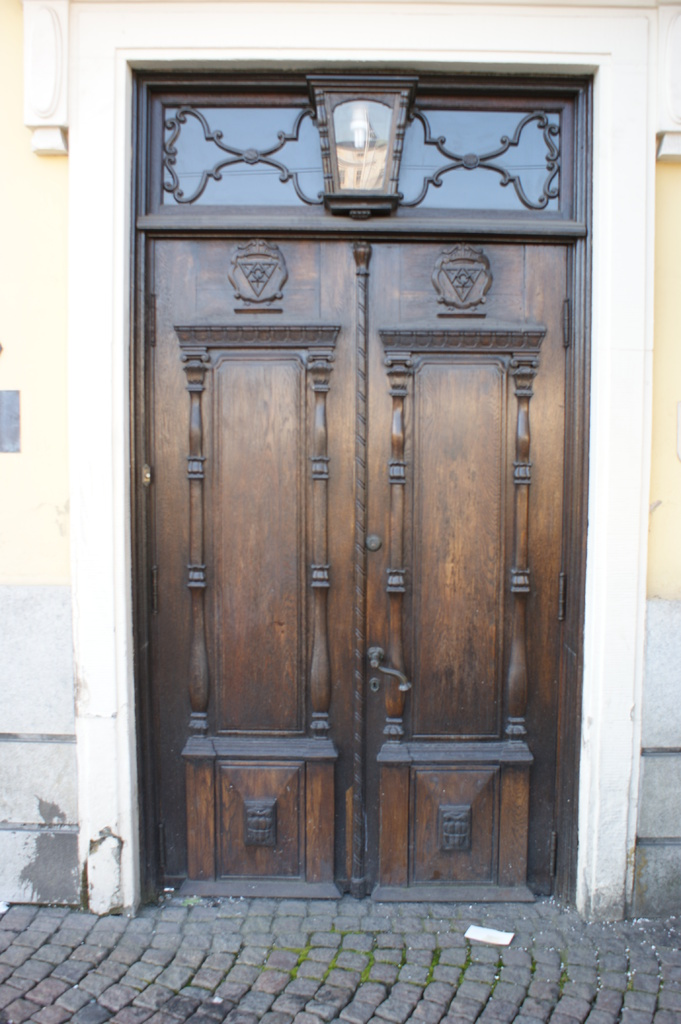door: (150, 239, 352, 883), (371, 250, 554, 876)
handle: (369, 651, 411, 694)
